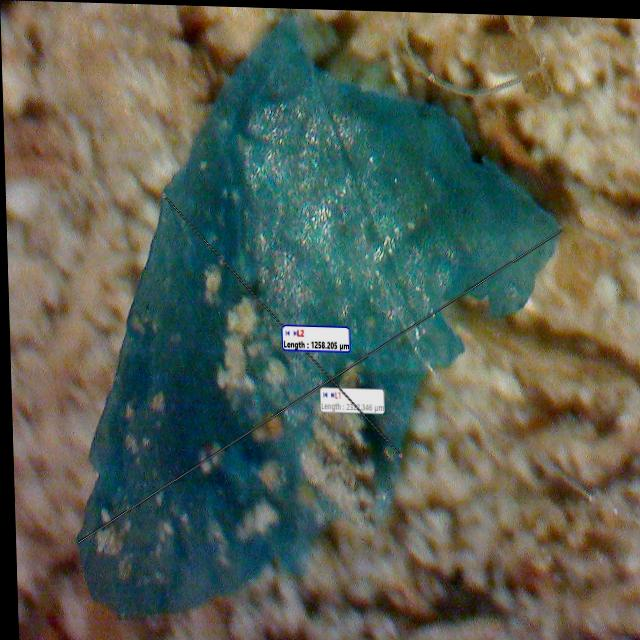microplastic: (0, 2, 596, 640)
